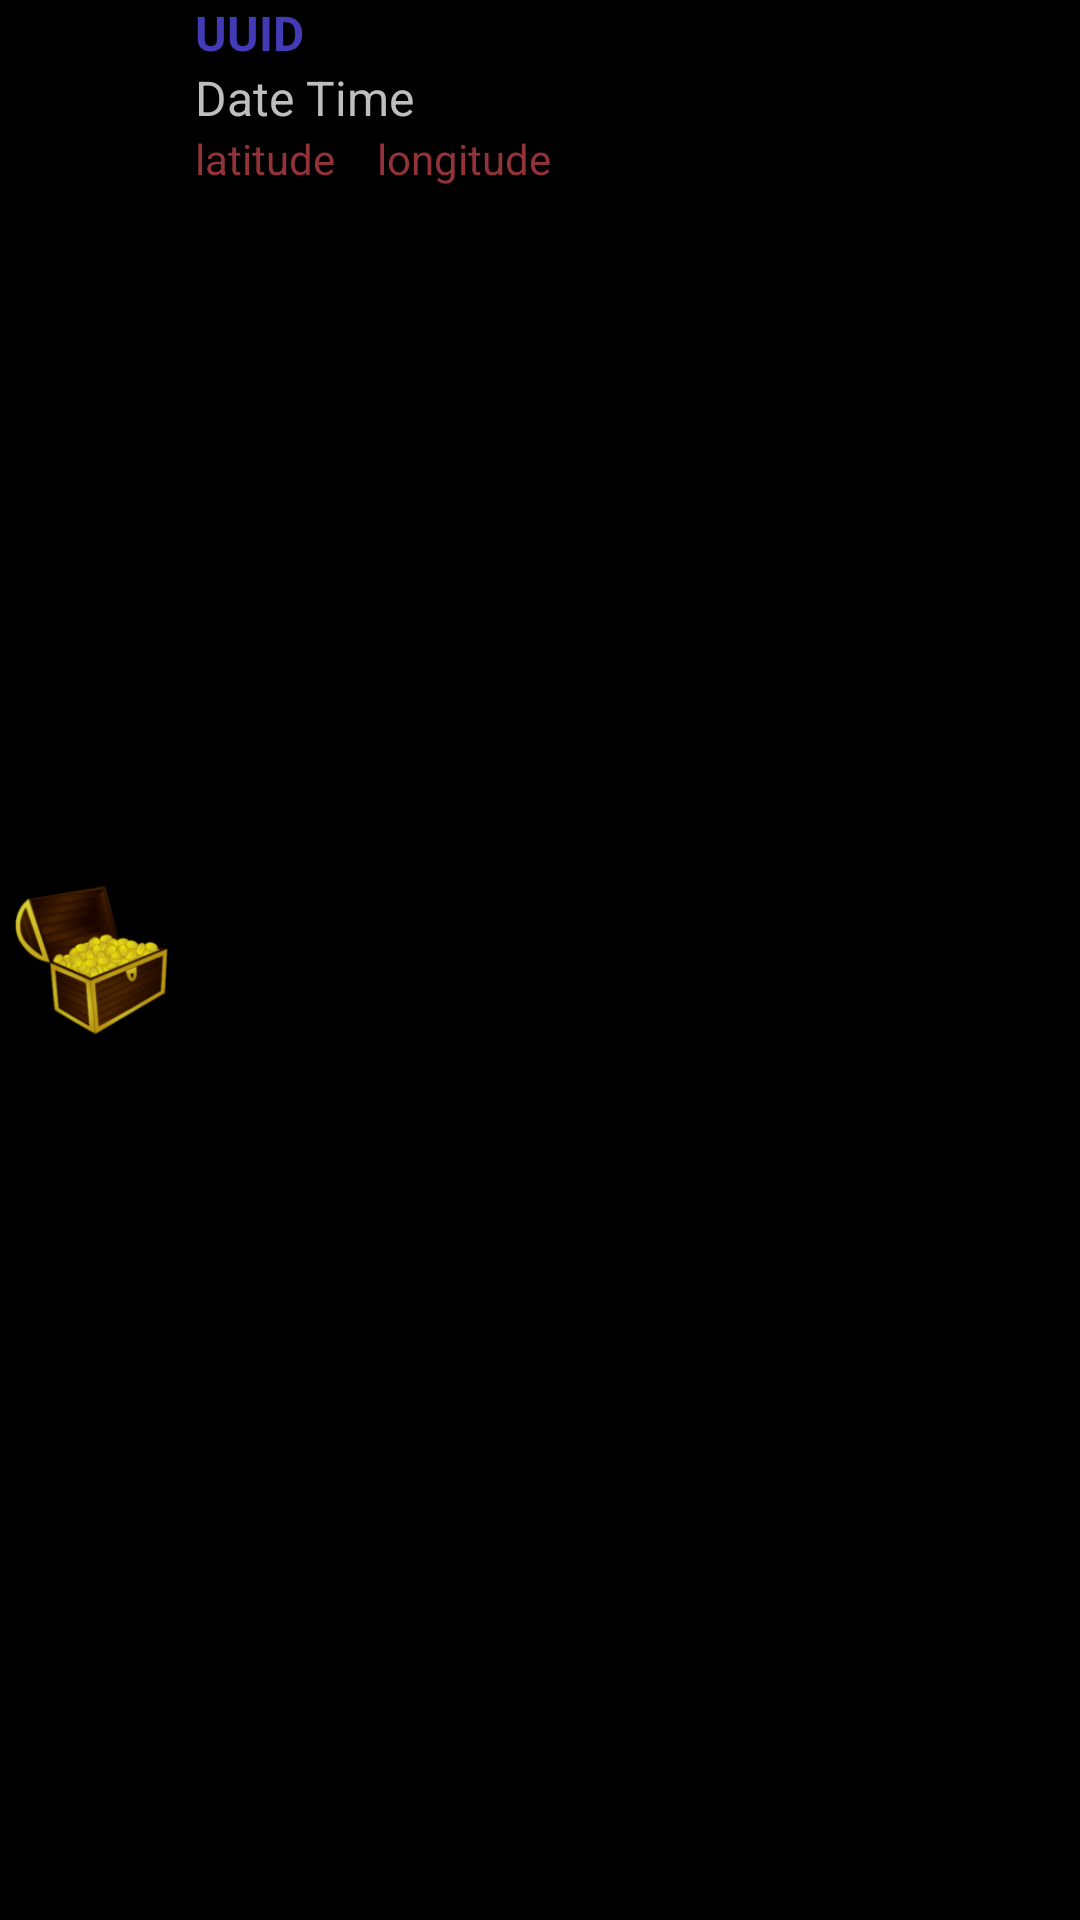

Named icons in this screenshot (1080*1920) and their bounding boxes, bbox(x1, y1, x2, y2):
Treasure Chest: bbox(15, 886, 168, 1034)
